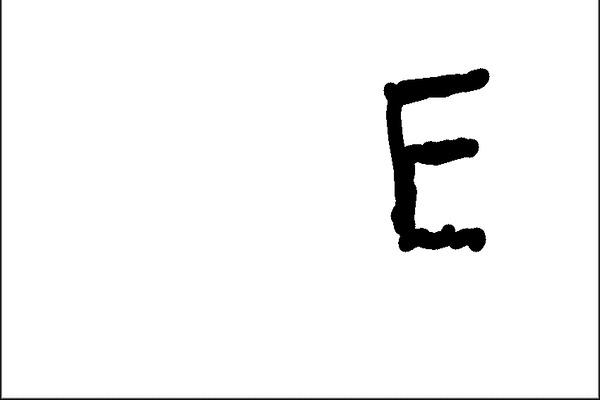E: (376, 65, 494, 256)
